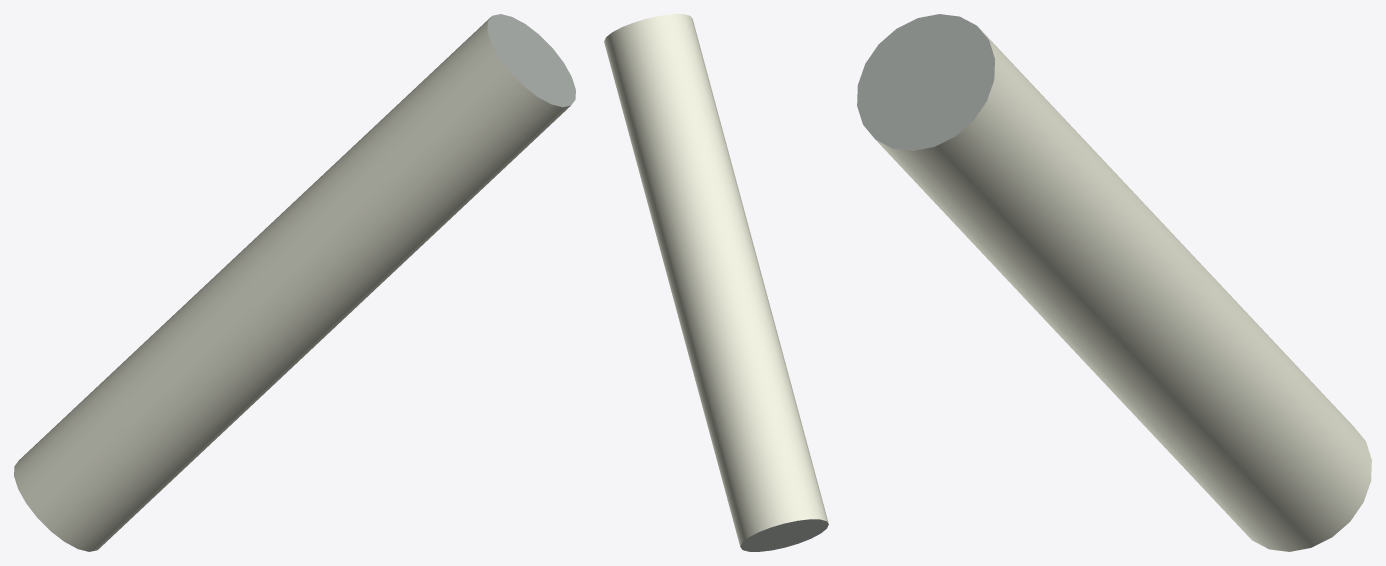
File: Chandeleir_light.fbx
3 renders of one model, left to right at view 1: azimuth 30°, elevation 25°; view 2: azimuth 150°, elevation 25°; view 3: azimuth 270°, elevation 25°, orthographic. The views are drawn at different scales.
Visible parts, largest first — view 1: pCylinder2; view 2: pCylinder2; view 3: pCylinder2.
Part boxes in pixels (bbox=[...]): pCylinder2: bbox=[14, 14, 575, 551]; pCylinder2: bbox=[604, 14, 828, 551]; pCylinder2: bbox=[857, 14, 1371, 551].
Bounding box in the file's own units: 26.53 × 33.57 × 22.46.
1 material, 1 textured.
